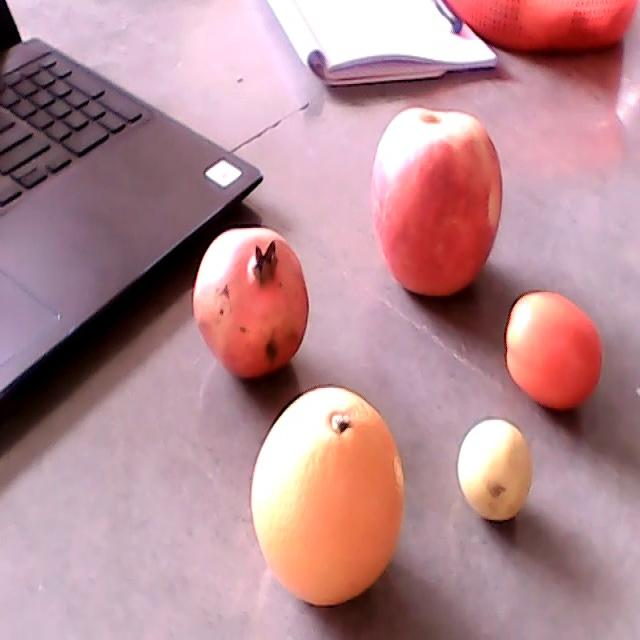apple: (369, 105, 504, 297)
lemon: (458, 417, 532, 521)
orange: (251, 386, 404, 606)
pomegranate: (193, 228, 309, 379)
tomato: (505, 289, 602, 411)
